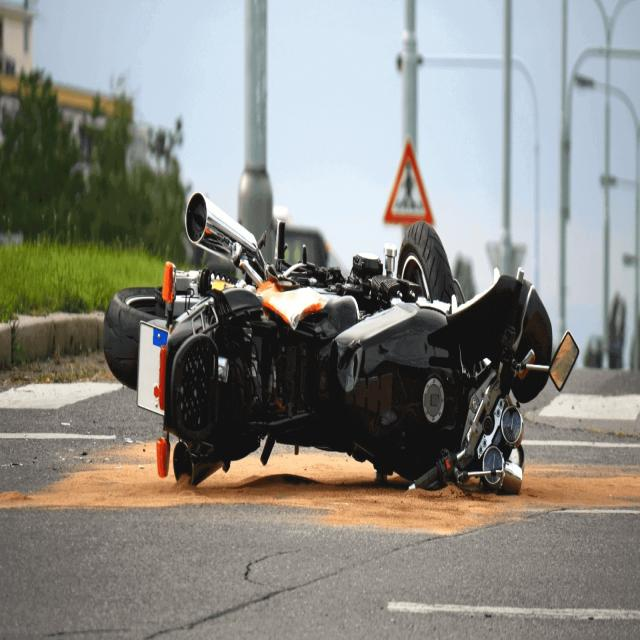accident: (104, 193, 579, 493)
